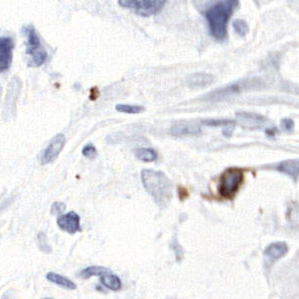Lymphocyte: (214, 167, 249, 198)
